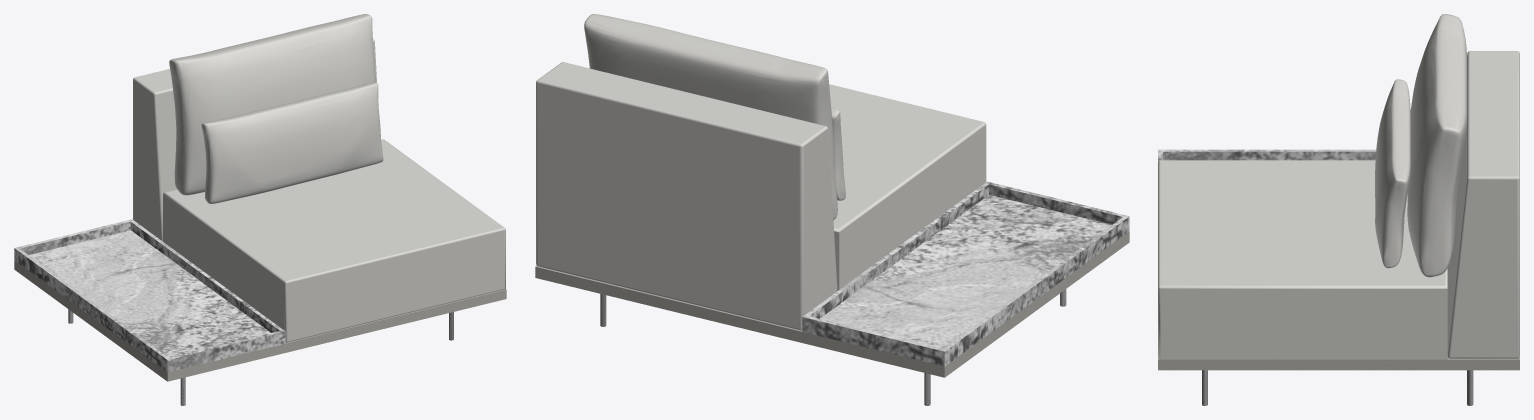
The model's file is single_arm_t1_R.glb.
3 renders of one model, left to right at view 1: azimuth 30°, elevation 25°; view 2: azimuth 150°, elevation 25°; view 3: azimuth 270°, elevation 25°, orthographic. The views are drawn at different scales.
Visible parts, largest first — view 1: instance_0.010, instance_0.013, instance_0.002, instance_0.012, instance_0.011, instance_0.001, instance_0.003; view 2: instance_0.011, instance_0.002, instance_0.010, instance_0.013, instance_0.001, instance_0.003, instance_0.012; view 3: instance_0.010, instance_0.011, instance_0.013, instance_0.012, instance_0.003, instance_0.002, instance_0.001.
Boxes of the visible parts, x1,y1,x2,y2 form: instance_0.010: [163, 139, 505, 342]; instance_0.013: [169, 14, 375, 195]; instance_0.002: [20, 221, 279, 357]; instance_0.012: [201, 82, 383, 203]; instance_0.011: [133, 39, 376, 241]; instance_0.001: [14, 219, 285, 372]; instance_0.003: [14, 260, 506, 381]; instance_0.011: [536, 62, 837, 330]; instance_0.002: [809, 184, 1122, 348]; instance_0.010: [829, 84, 986, 290]; instance_0.013: [584, 14, 837, 219]; instance_0.001: [802, 181, 1129, 366]; instance_0.003: [535, 231, 1129, 377]; instance_0.012: [831, 107, 845, 200]; instance_0.010: [1158, 160, 1447, 359]; instance_0.011: [1447, 51, 1519, 358]; instance_0.013: [1407, 14, 1467, 277]; instance_0.012: [1375, 79, 1410, 268]; instance_0.003: [1158, 356, 1519, 370]; instance_0.002: [1163, 151, 1375, 160]; instance_0.001: [1158, 149, 1376, 162].
Bounding box in the file's own units: 1.15 × 0.799 × 0.9.
Materials: 4 (3 with a texture image).
